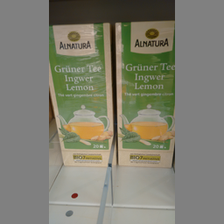tea: (49, 22, 111, 166), (114, 21, 174, 168)
